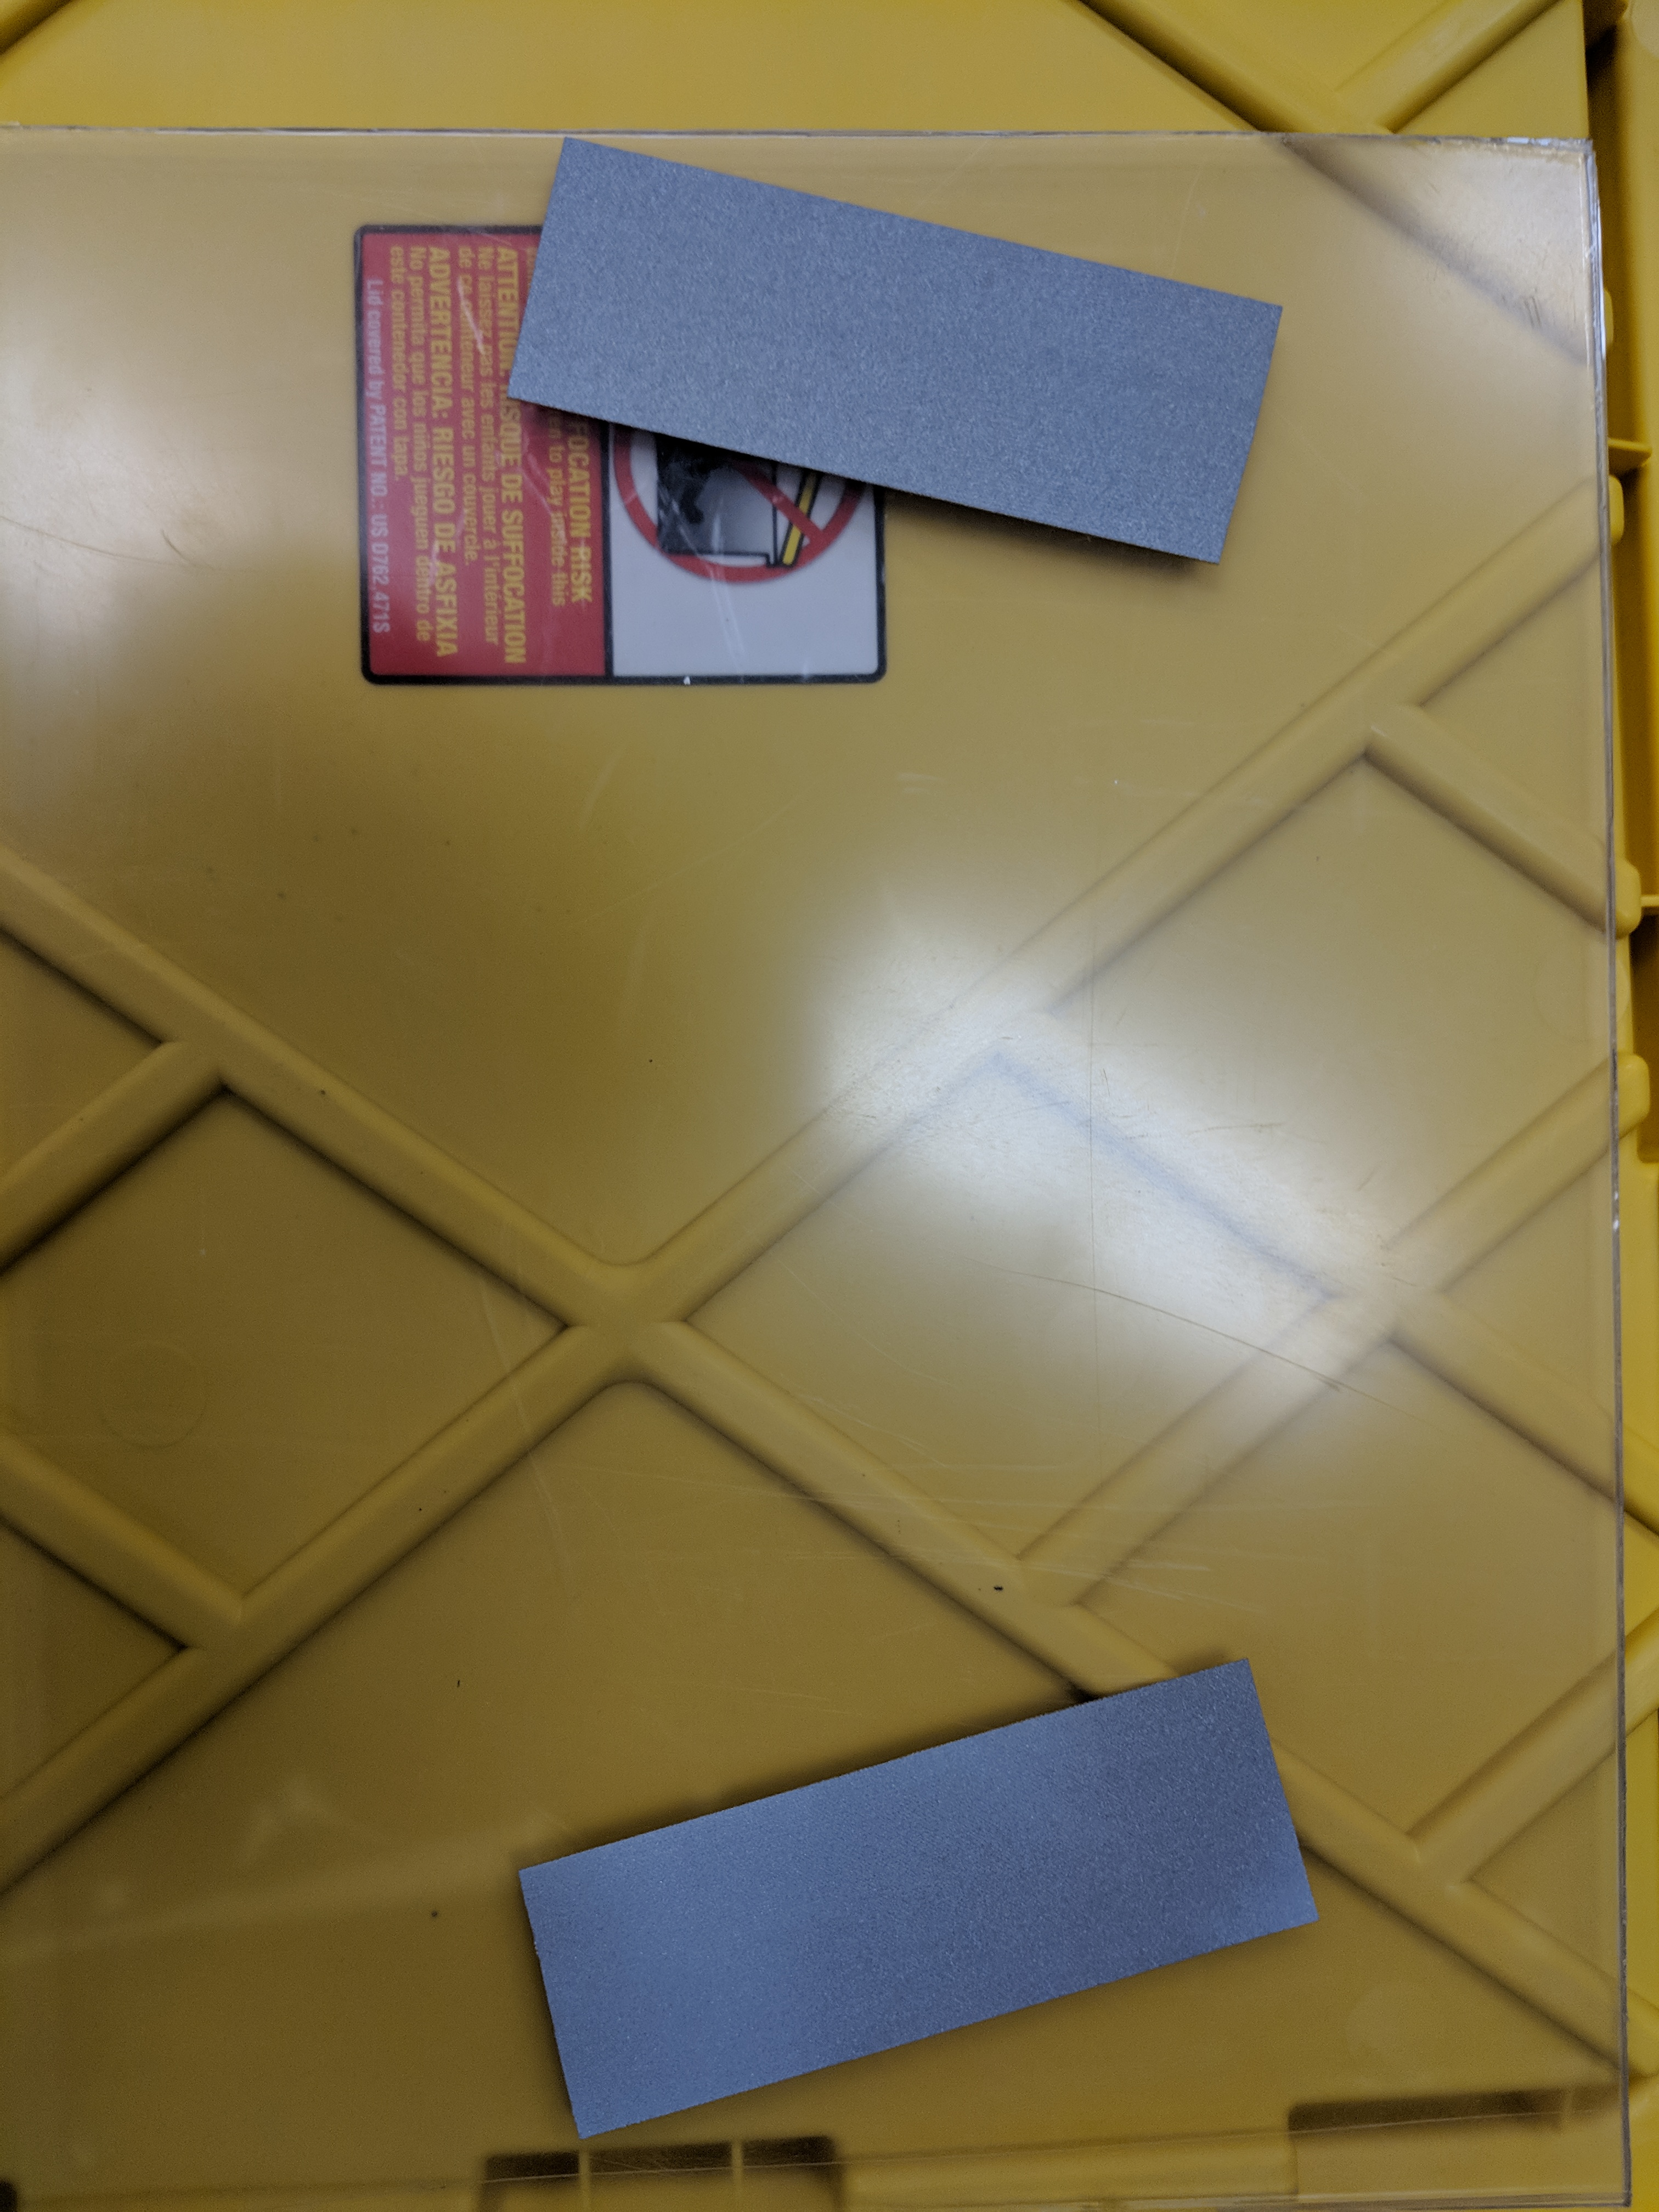vision_target: (491, 129, 1344, 2151)
